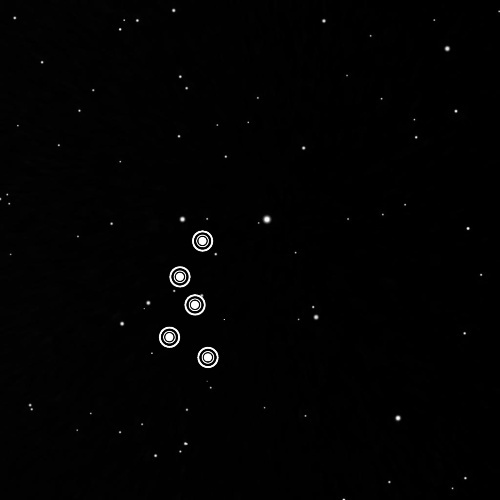cassiopeia: (142, 220, 225, 379)
